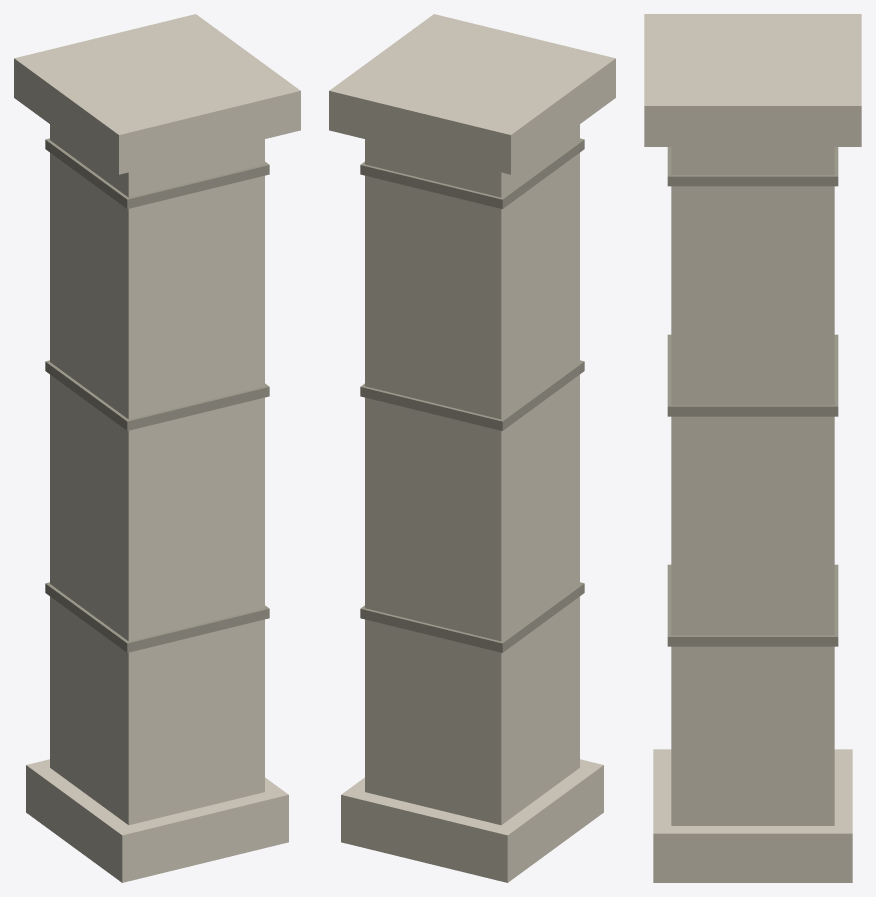
The model's file is road.abutment-support.glb.
3 views of the same model, side by side, from view 1: azimuth 30°, elevation 25°; view 2: azimuth 150°, elevation 25°; view 3: azimuth 270°, elevation 25° (orthographic). The views are drawn at different scales.
Visible parts, largest first — view 1: road.abutment-support; view 2: road.abutment-support; view 3: road.abutment-support.
Part boxes in pixels (bbox=[...]): road.abutment-support: bbox=[14, 14, 300, 882]; road.abutment-support: bbox=[329, 14, 615, 882]; road.abutment-support: bbox=[644, 14, 861, 882].
Size of the model in its own units: 1.2 by 4.75 by 1.2.
